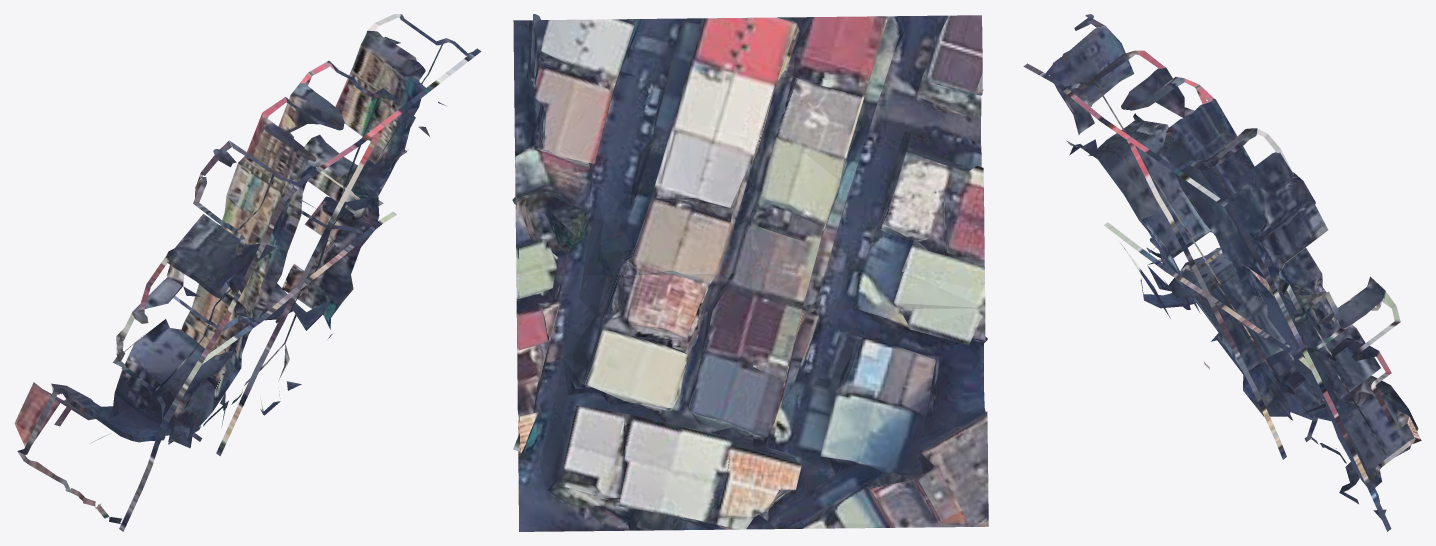
The picture shows the model from 3 angles, left to right: view 1: azimuth 30°, elevation 25°; view 2: azimuth 150°, elevation 25°; view 3: azimuth 270°, elevation 25°; orthographic projection. The views are drawn at different scales.
Size of the model in its own units: 86.66 by 76.03 by 69.11.
2 materials, 2 textured.
